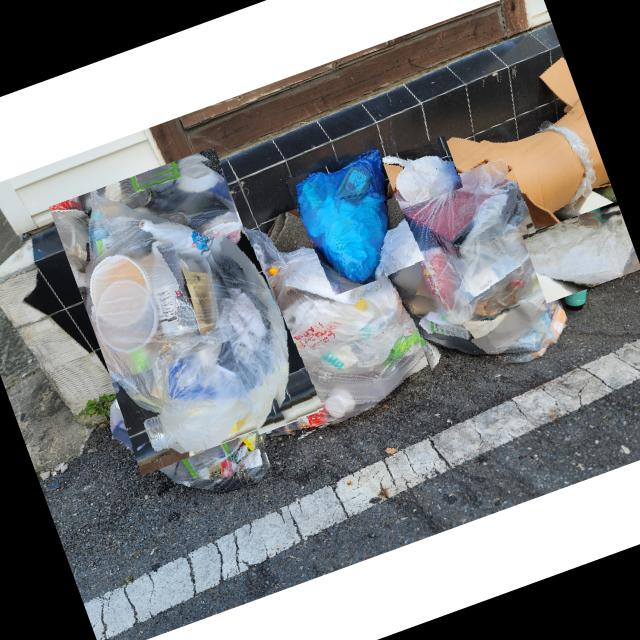other_trashbag: (86, 191, 279, 457), (240, 227, 428, 429), (390, 159, 565, 356), (110, 377, 261, 490), (296, 148, 389, 283), (523, 211, 631, 282), (381, 155, 459, 203)
